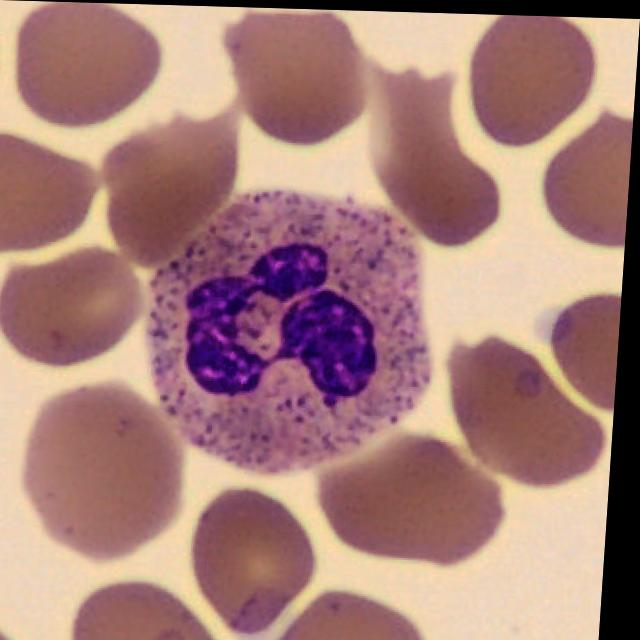Neutrofilo segmentado: (150, 186, 438, 472)
